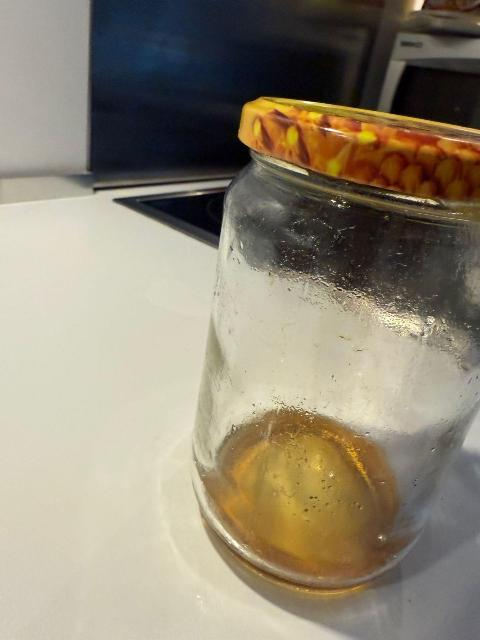Cam: (180, 147, 480, 589)
Metal: (235, 94, 480, 200)
